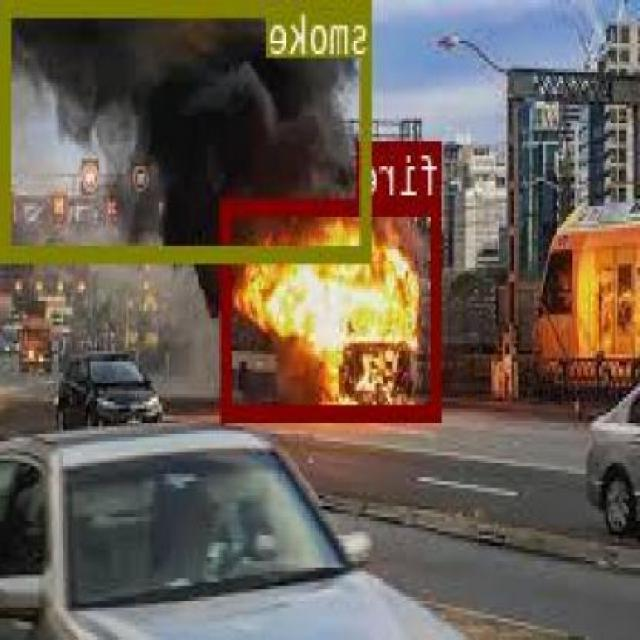Fire: (225, 196, 442, 416)
Smoke: (5, 0, 372, 257)
